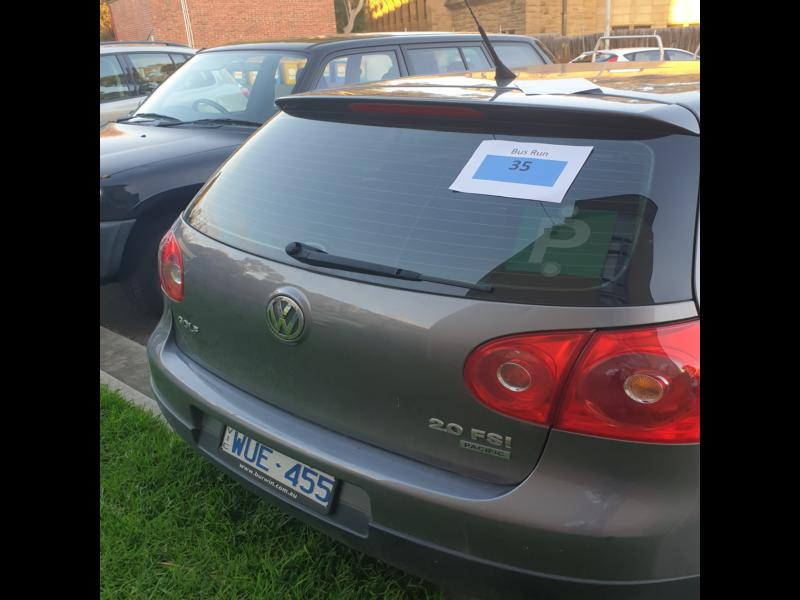BusRun: (475, 153, 567, 188)
PlateNo: (217, 425, 337, 511)
